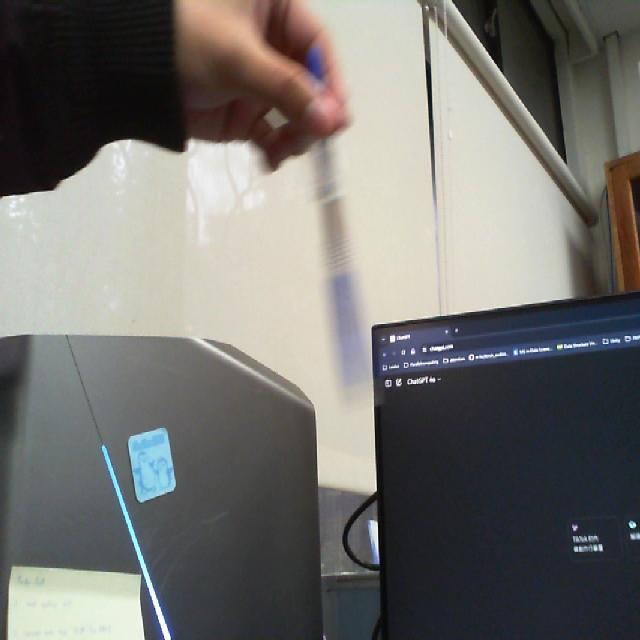Pen: (289, 40, 398, 431)
